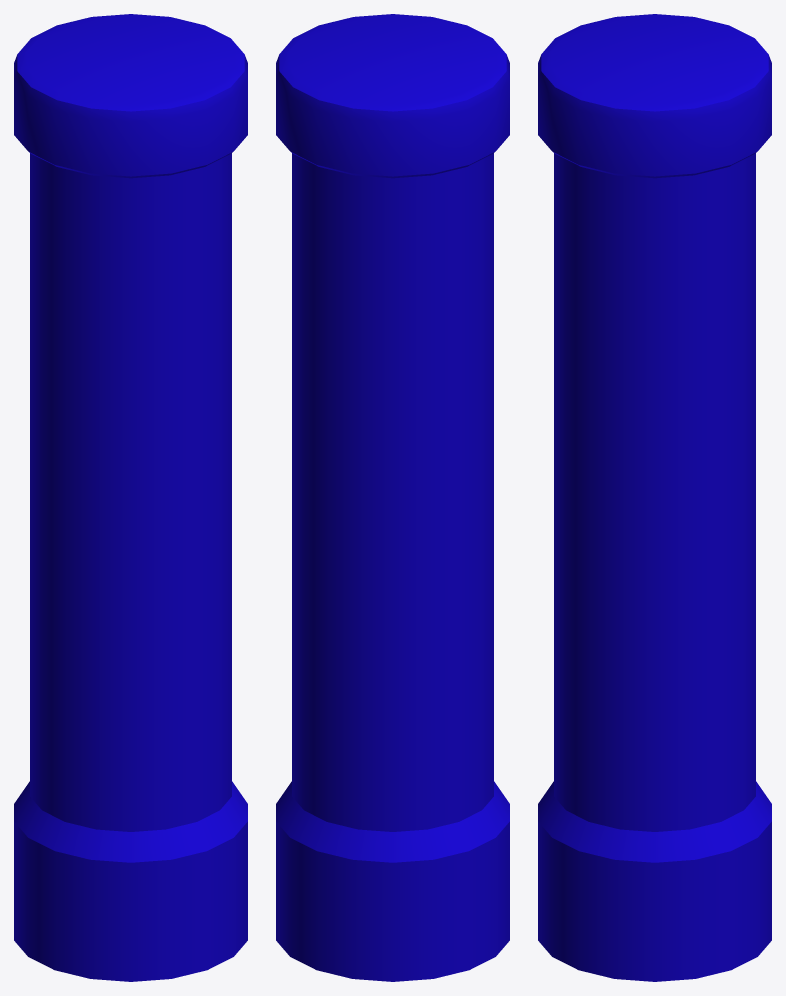
The model's file is SM_Pillar.fbx.
The picture shows the model from 3 angles, left to right: view 1: azimuth 30°, elevation 25°; view 2: azimuth 150°, elevation 25°; view 3: azimuth 270°, elevation 25°; orthographic projection.
Parts seen in each view (by area): view 1: SM_Pillar; view 2: SM_Pillar; view 3: SM_Pillar.
Boxes of the visible parts, x1=… form: SM_Pillar: x1=14, y1=14, x2=247, y2=981; SM_Pillar: x1=276, y1=14, x2=509, y2=981; SM_Pillar: x1=538, y1=14, x2=771, y2=981.
Size of the model in its own units: 150 by 609 by 148.
